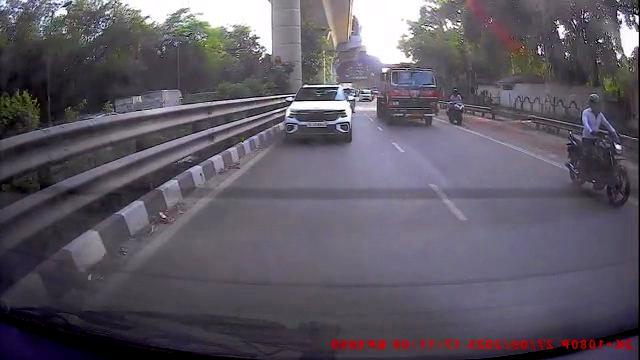motorcycle_with_helmet: (565, 92, 630, 210)
